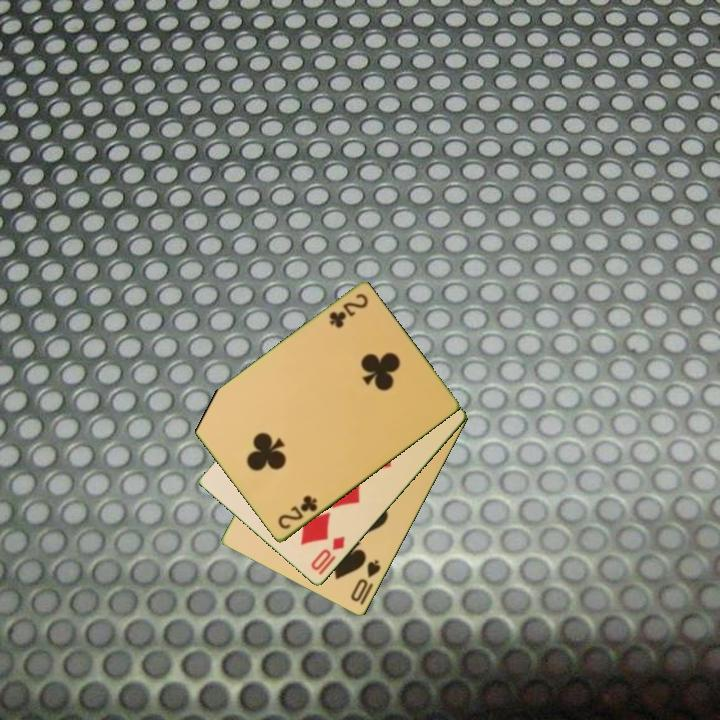10d: (307, 533, 348, 574)
10s: (347, 556, 384, 605)
2c: (274, 492, 320, 533), (326, 290, 371, 331)
